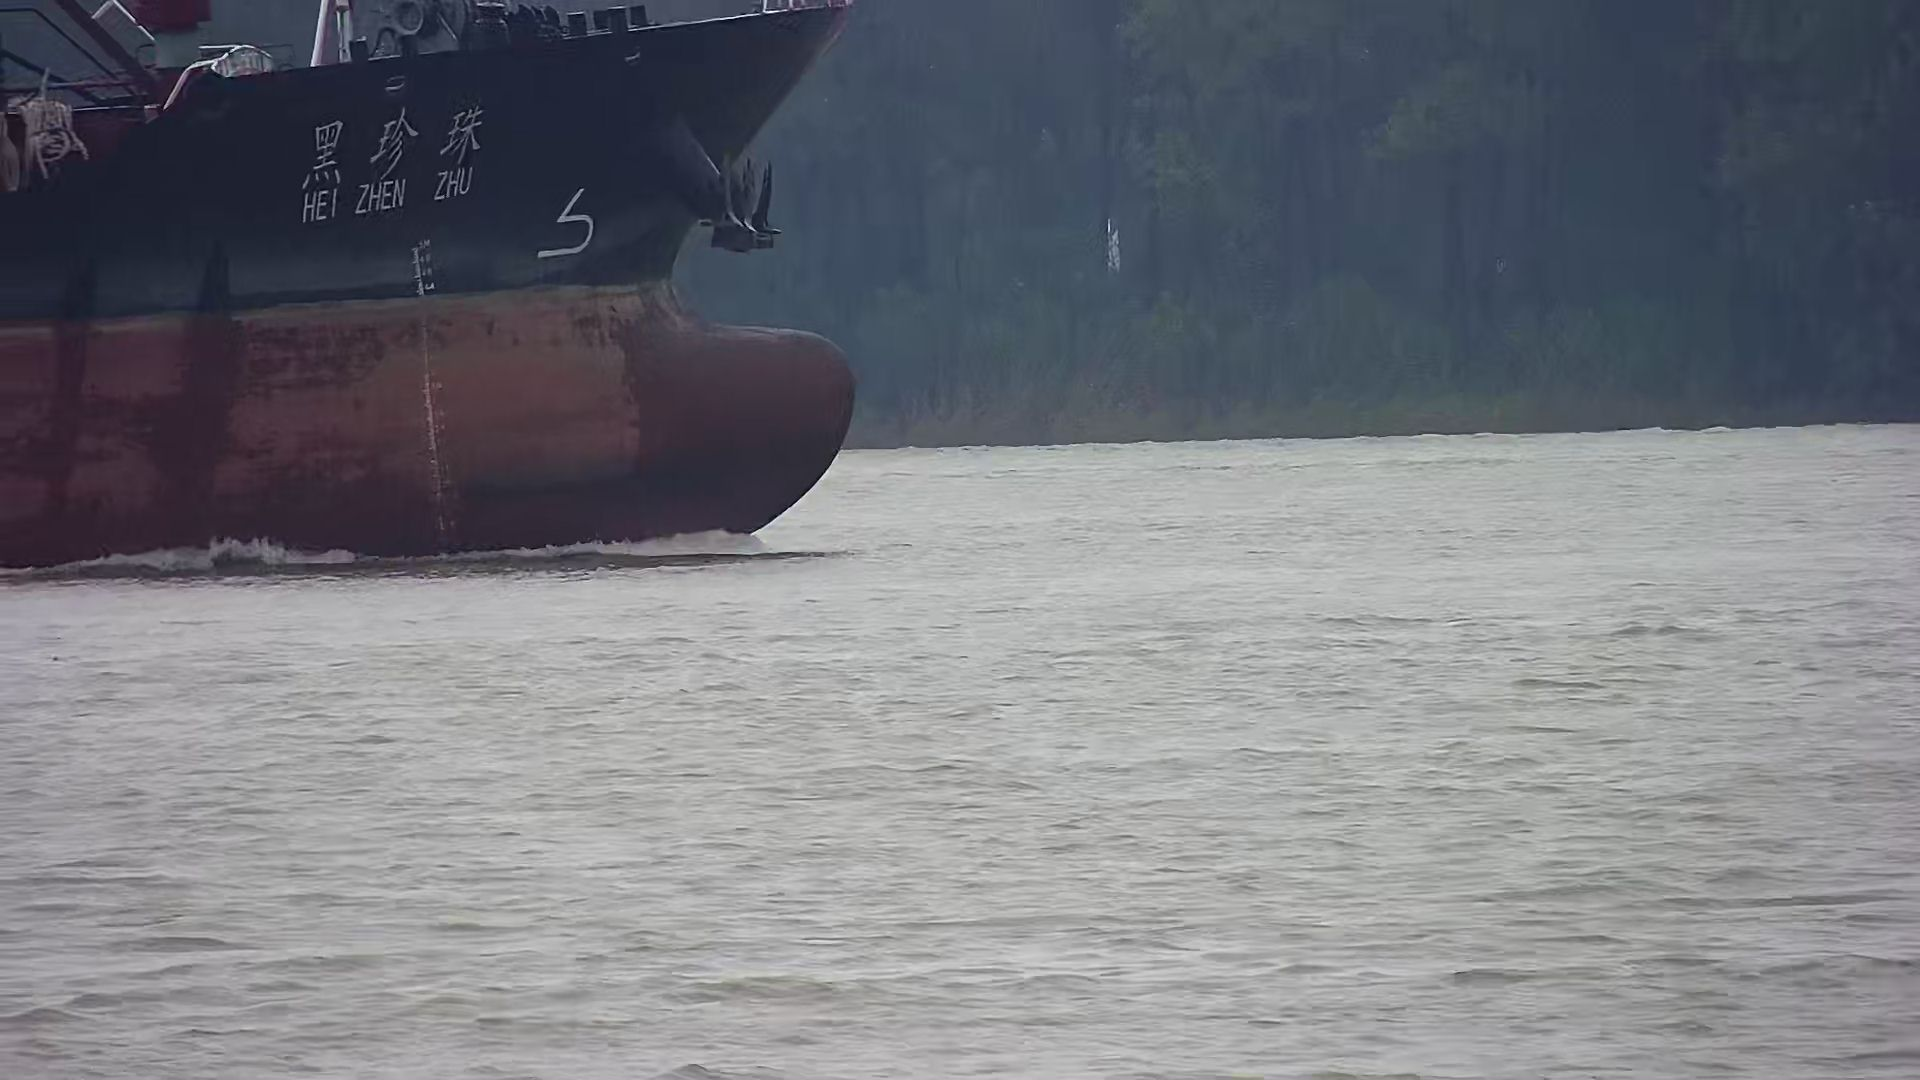ship: (1, 1, 855, 570)
